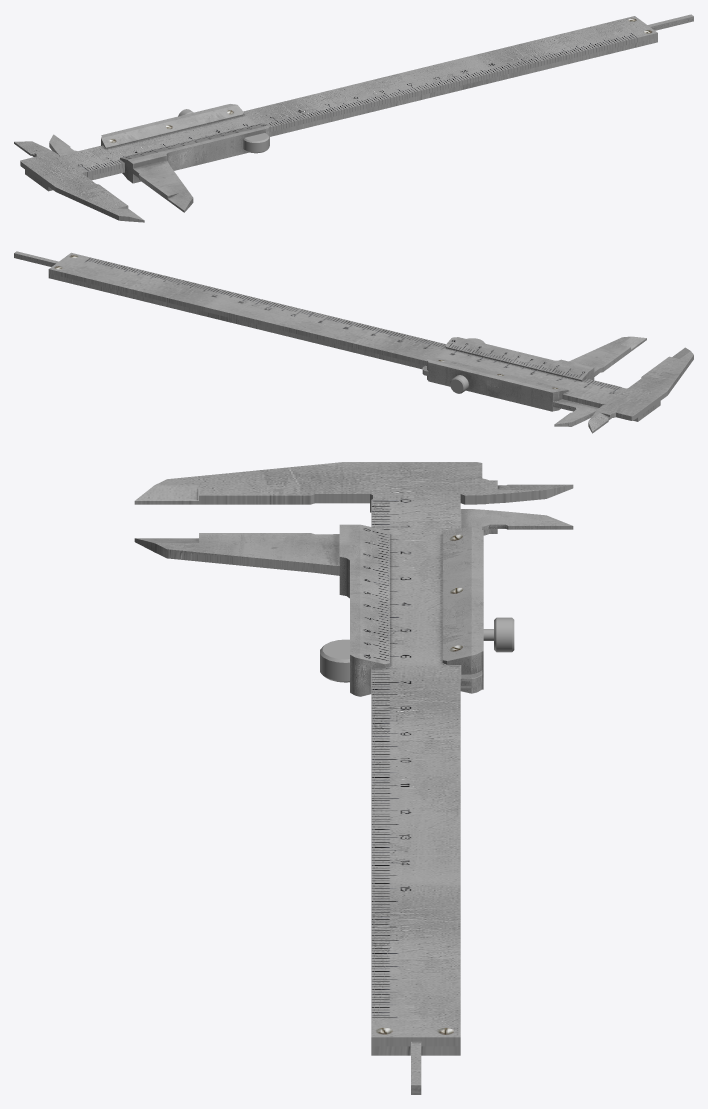
Rendered from Caliper01.FBX.
3 renders of one model, top to bottom at view 1: azimuth 30°, elevation 25°; view 2: azimuth 150°, elevation 25°; view 3: azimuth 270°, elevation 25°, orthographic. The views are drawn at different scales.
Visible parts, largest first — view 1: Caliper_LOD0; view 2: Caliper_LOD0; view 3: Caliper_LOD0.
Boxes of the visible parts, x1=… form: Caliper_LOD0: x1=14, y1=14, x2=693, y2=222; Caliper_LOD0: x1=14, y1=251, x2=693, y2=433; Caliper_LOD0: x1=134, y1=462, x2=573, y2=1094.
Size of what is drawn, in the model's own units: 30.39 by 0.8739 by 9.11.
